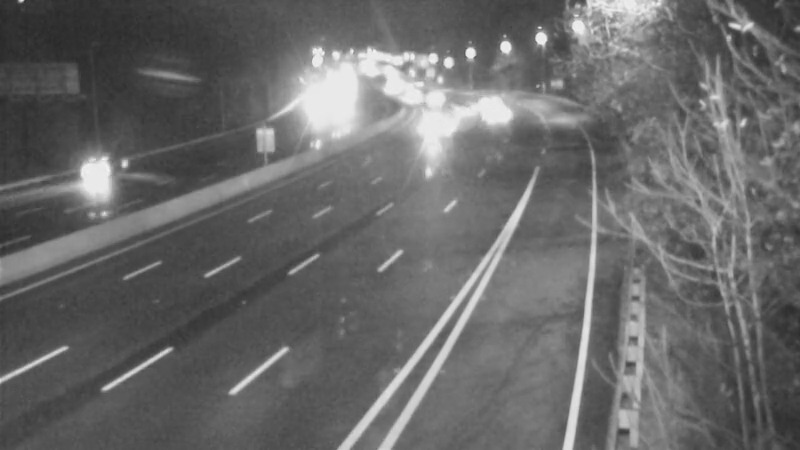vehicle: (54, 138, 134, 218), (384, 72, 434, 122), (434, 87, 484, 137), (459, 79, 509, 129), (468, 87, 518, 137), (397, 95, 447, 145), (404, 108, 454, 158)
